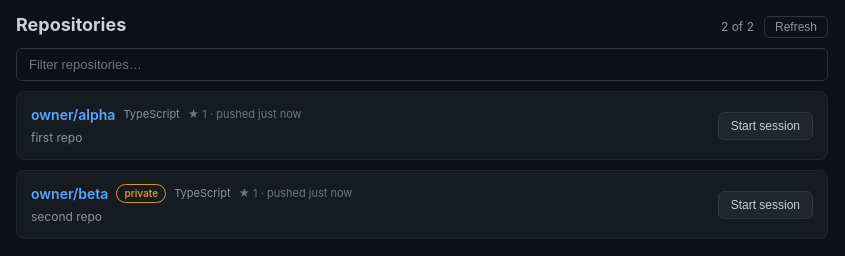
Scenario: Repos › filters by name/description client-side
Expected: the link "owner/alpha" is shown, [31,104,115,125]
Type "second" into the field labelled "Filter repositories" at (422, 64), box [16,48,828,81]
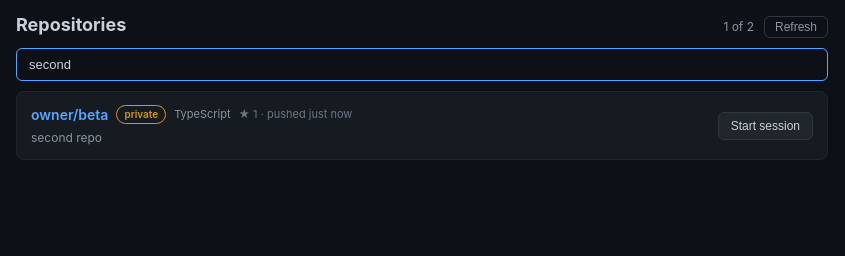
Expected: the link "owner/beta" is shown, [31,104,108,125]
Expected: the link "owner/alpha" is gone
Expected: the text "1 of 2" is shown, [723,18,754,36]
